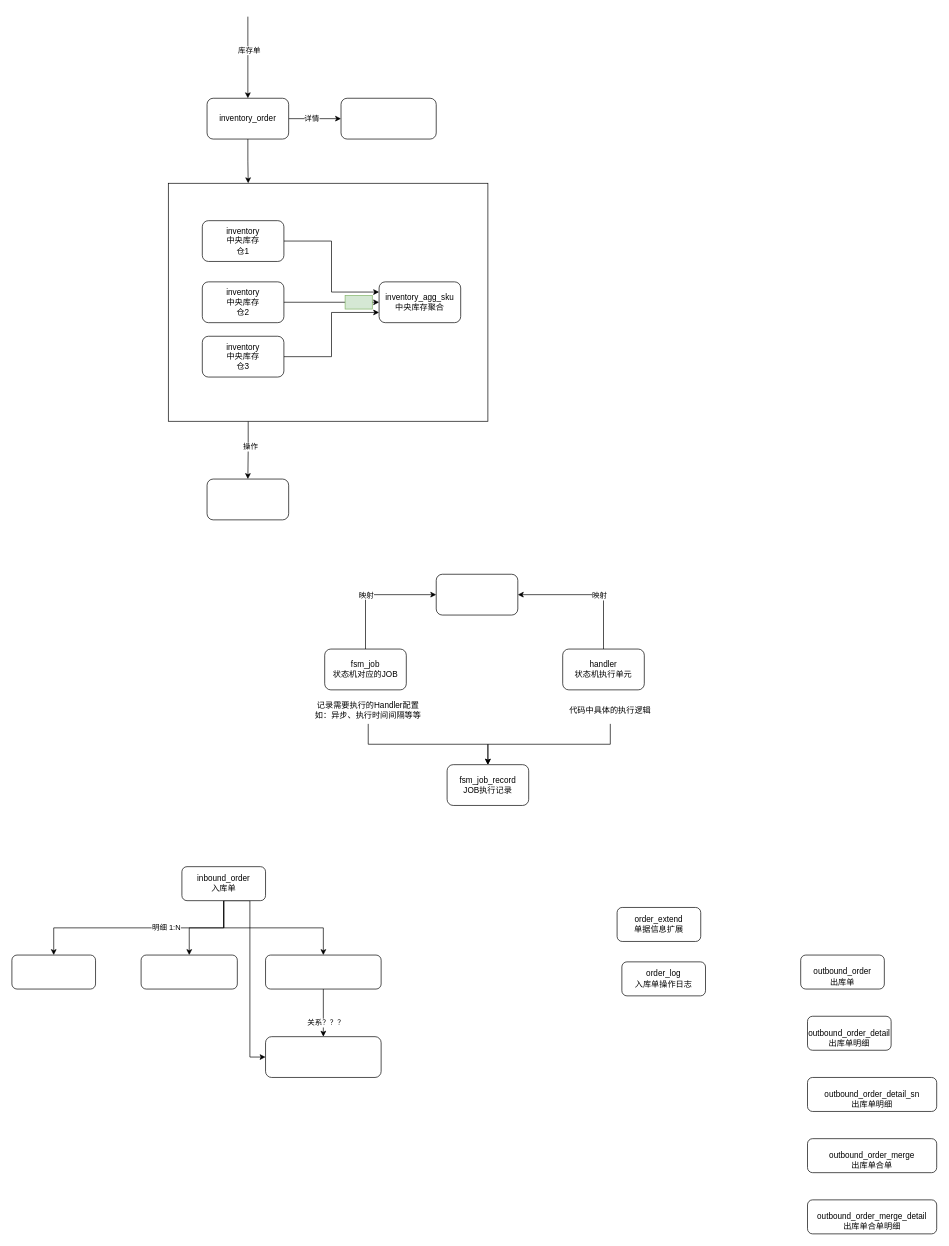
Some shapes in this 949 by 1246 pixel diagram are drawn without their labels. Here are the shapes that lost their labels. From the top down, the centre of each, then its label:
pixel 388 118: inventory_order_detail
pixel 358 302: 聚合
pixel 247 499: inventory_flow 中央库存实物流水
pixel 477 594: fsm_mapping 状态机映射
pixel 53 971: inbound_order_detail 入库单明细
pixel 188 971: inbound_order_logistics 入库单物流
pixel 323 971: inbound_receive_detail 入库单明细-实际商品
pixel 323 1056: inbound_receive_detail_sku 入库单明细-实际商品-SKU纬度
